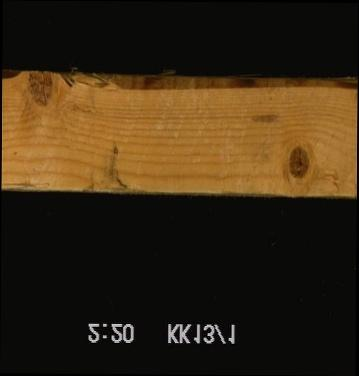sound_knot: (285, 144, 309, 182)
wave: (1, 69, 356, 105)
